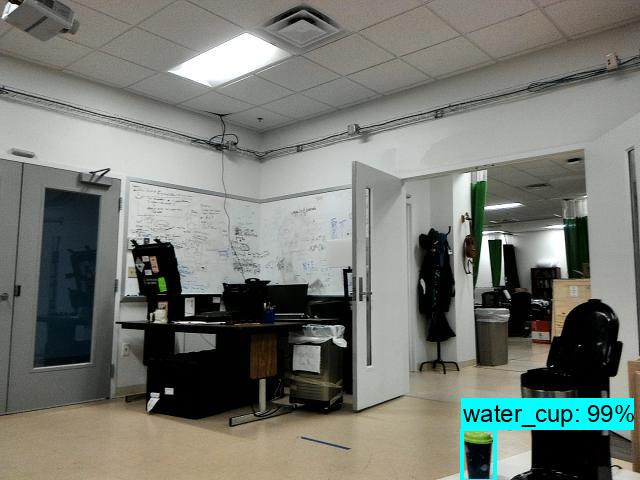water_cup: (462, 431, 497, 480)
